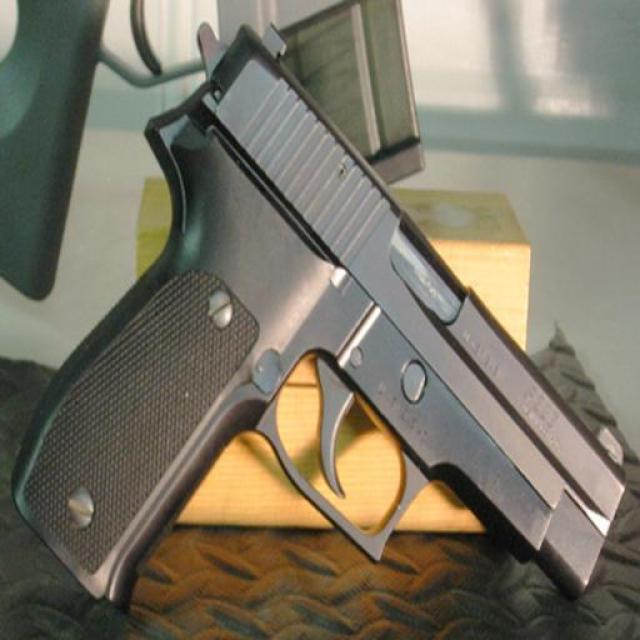pistol: (10, 25, 626, 602)
